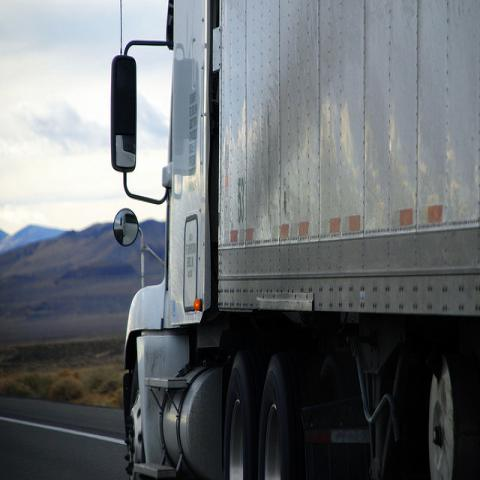truck: (110, 0, 479, 476)
